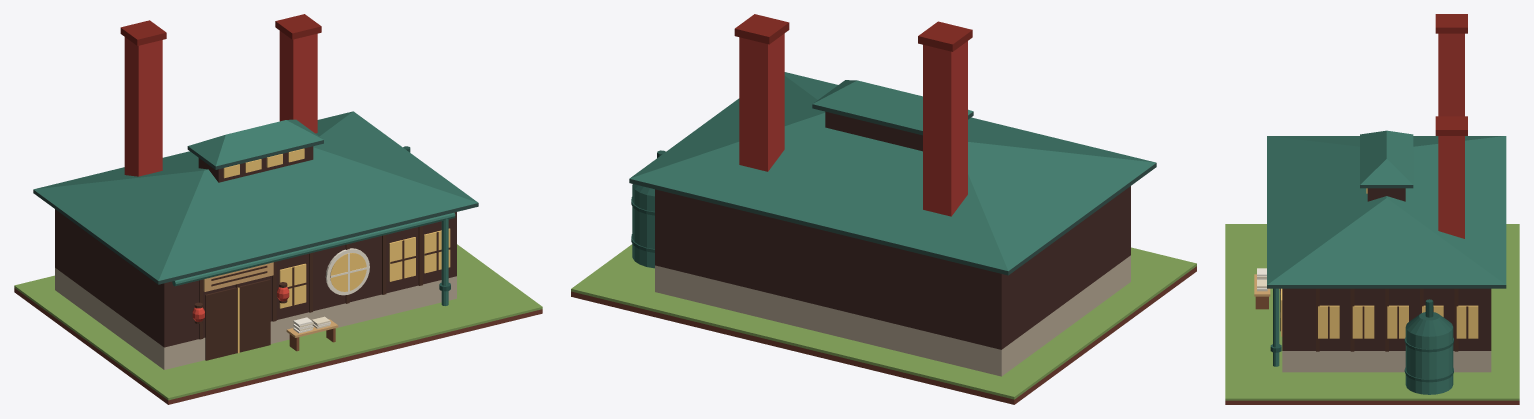
File: studio.glb
The picture shows the model from 3 angles, left to right: view 1: azimuth 30°, elevation 25°; view 2: azimuth 150°, elevation 25°; view 3: azimuth 270°, elevation 25°; orthographic projection. The views are drawn at different scales.
Parts seen in each view (by area): view 1: studio; view 2: studio; view 3: studio.
Boxes of the visible parts, <box> form: studio: <box>14,14,542,404</box>; studio: <box>571,14,1196,404</box>; studio: <box>1225,14,1519,404</box>.
Bounding box in the file's own units: 8.7 × 5.89 × 6.2.
